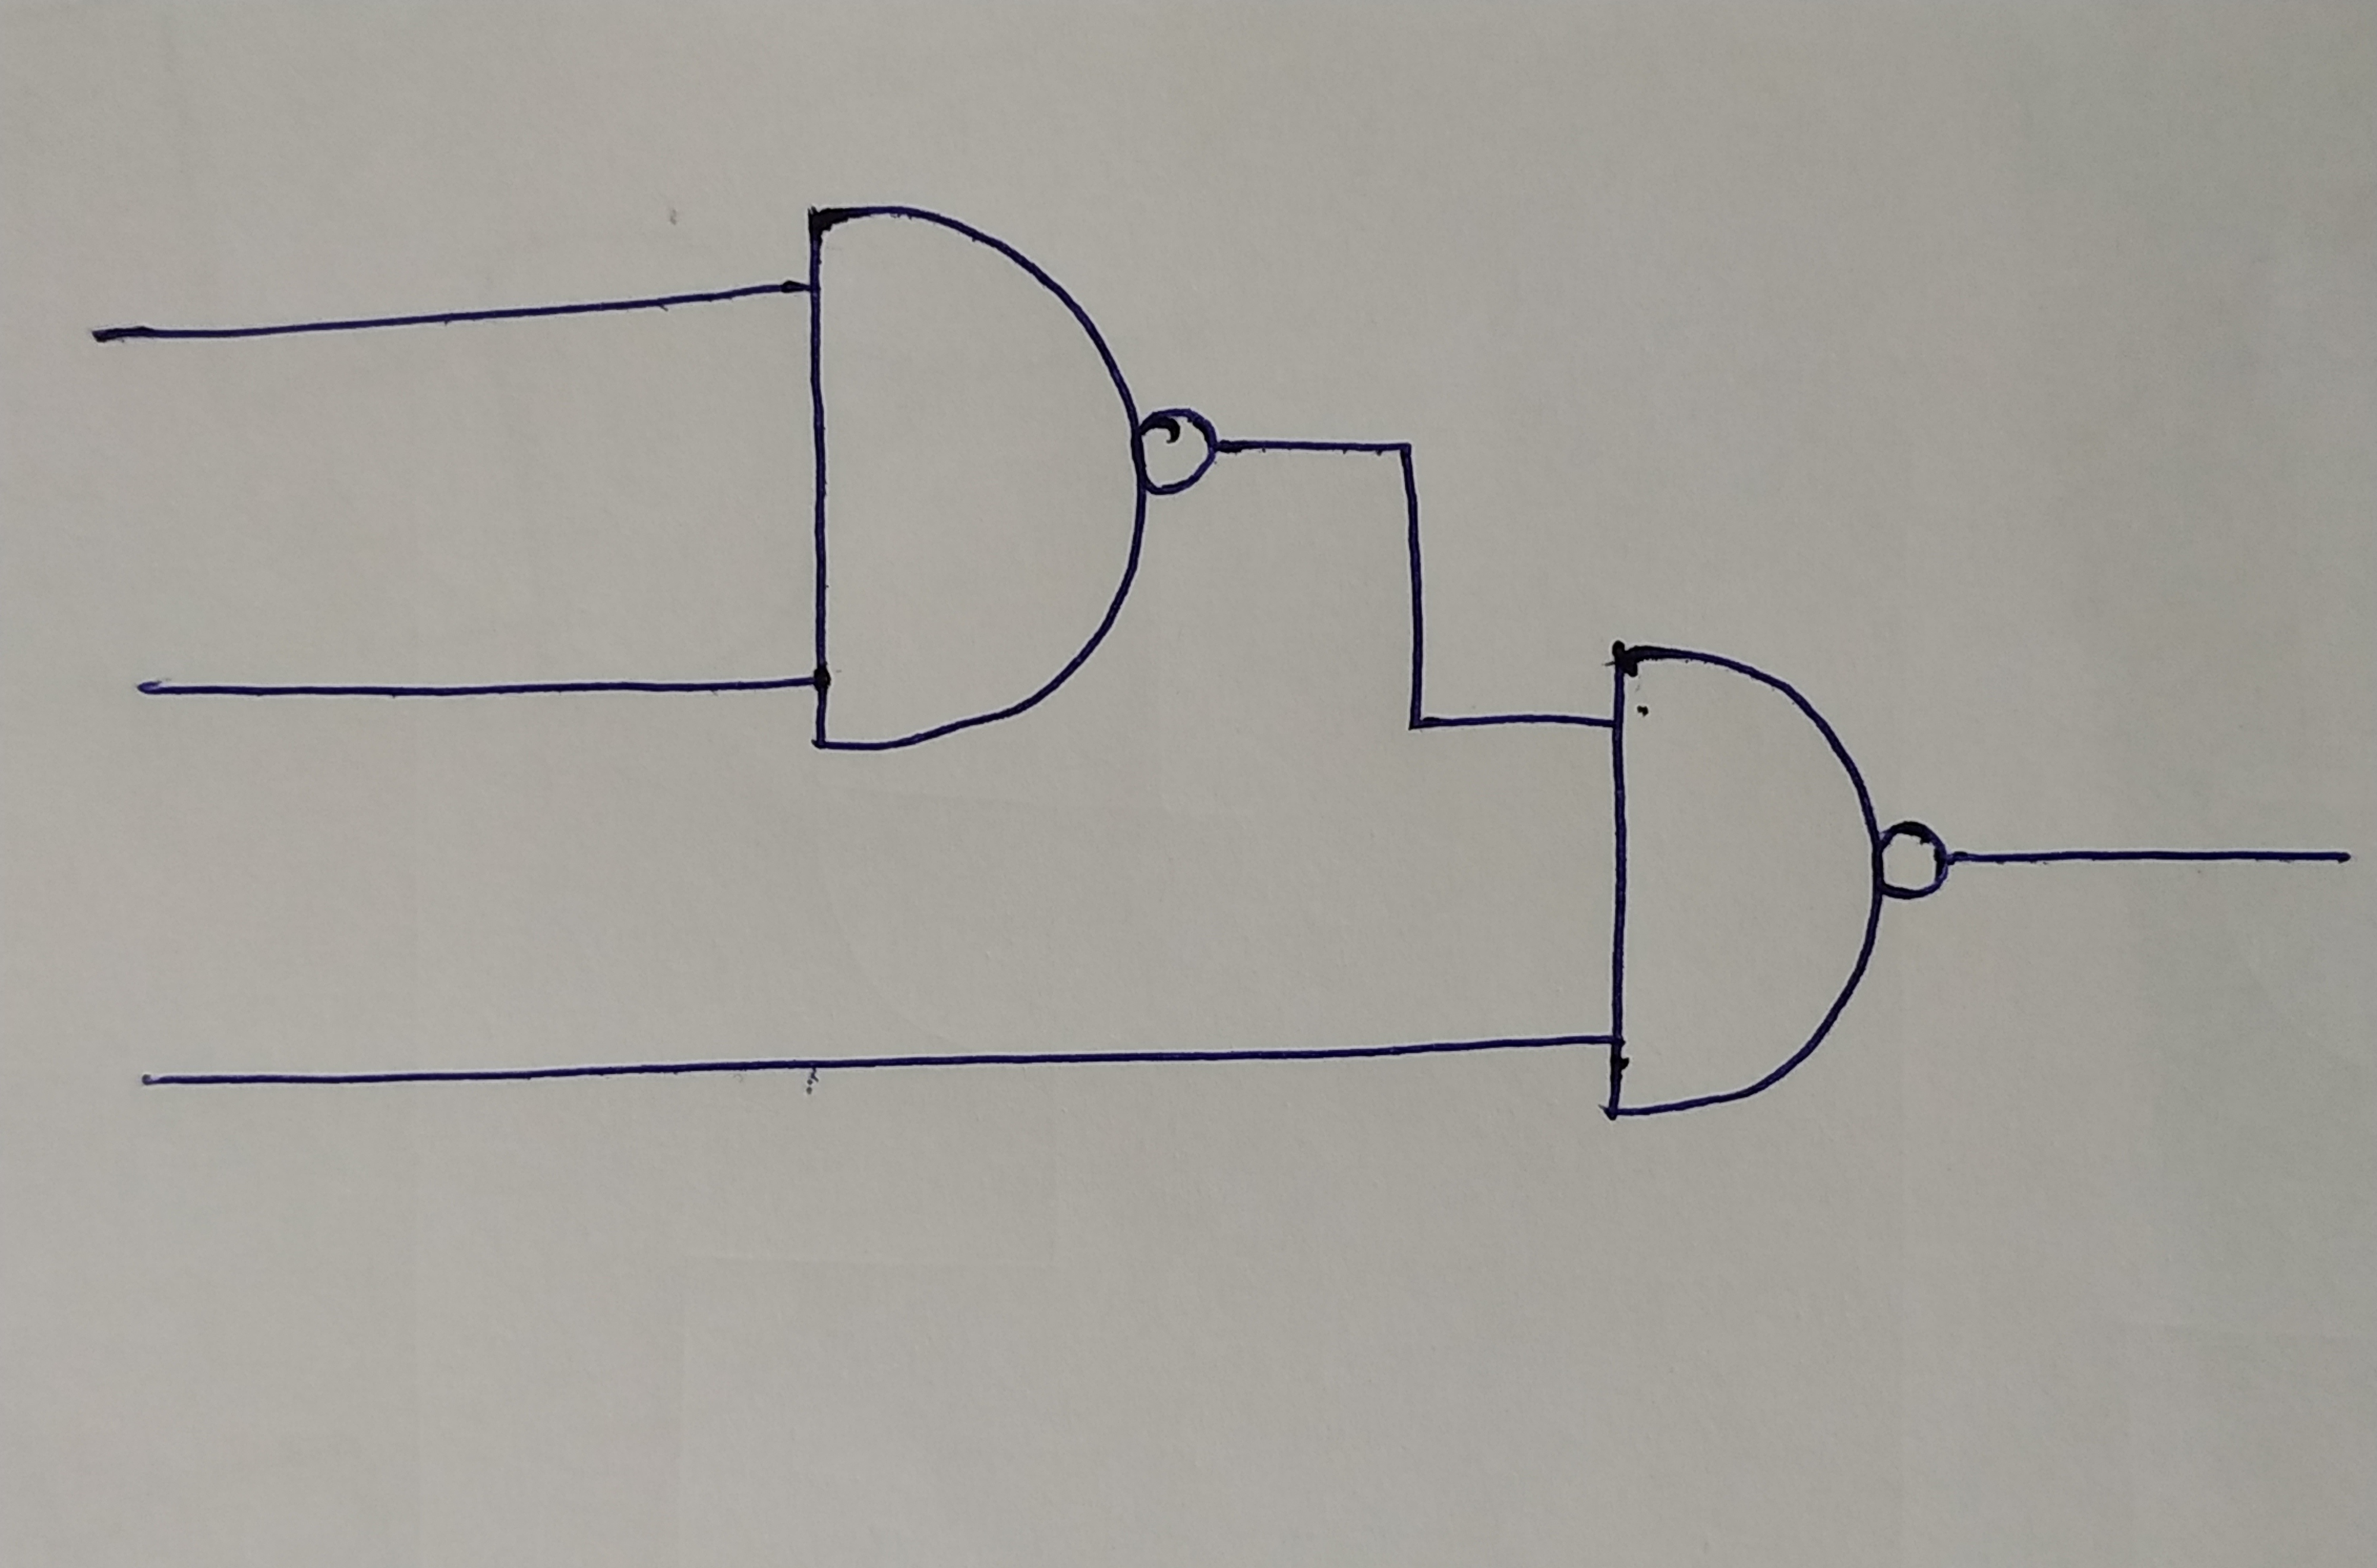and: (791, 198, 1143, 749), (1591, 637, 1869, 1122)
not: (1136, 406, 1217, 497), (1876, 821, 1950, 905)
